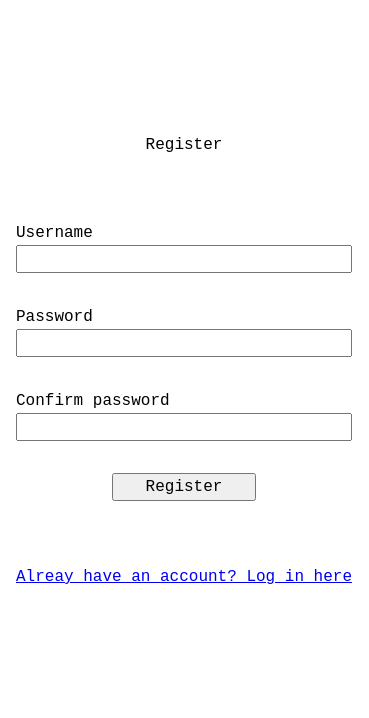
Test: Register component › will not submit if password not confirmed
Type "Username" into the field labelled "Username" at (184, 259), box [16,245,352,273]
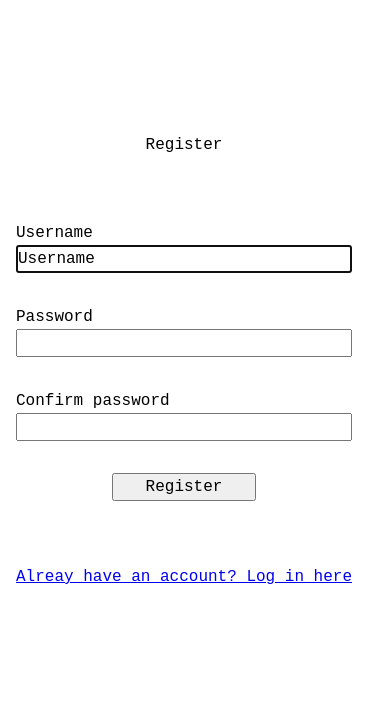
Type "Password" into the field labelled "Password" at (184, 343), box [16,329,352,357]
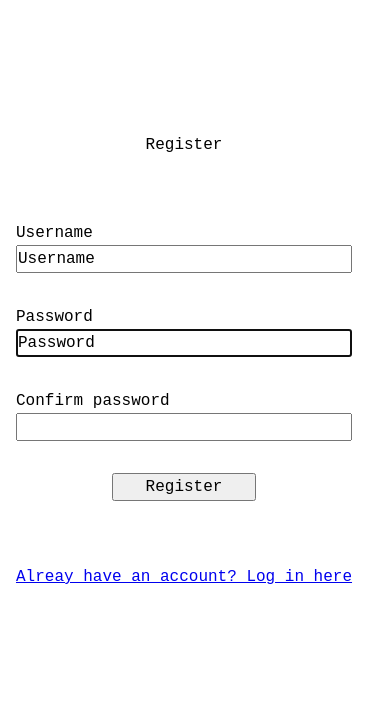
Type "DifferentPassword" into the field labelled "Confirm password" at (184, 427), box [16,413,352,441]
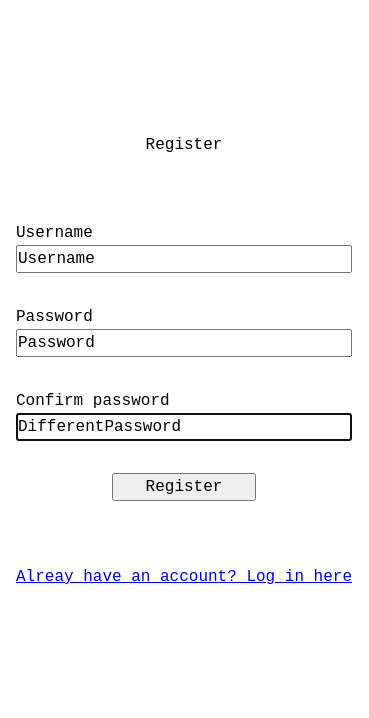
Click the button "Register" at (184, 487), box [112,473,256,501]
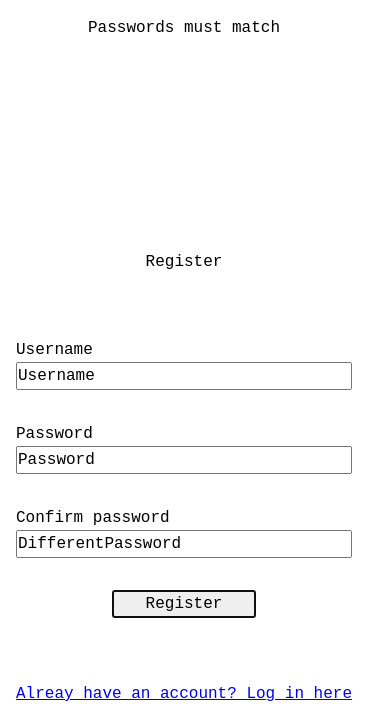
Now the text "Passwords must match" is shown, box [88,16,280,40]
